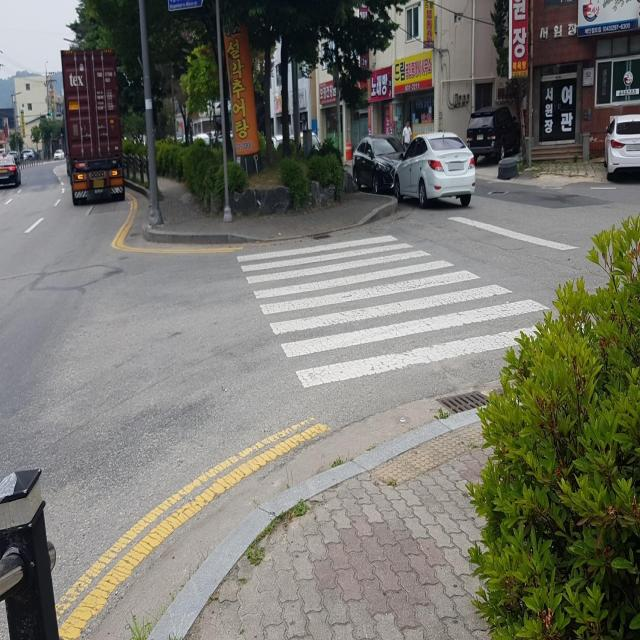횡단보도: (236, 234, 594, 390)
